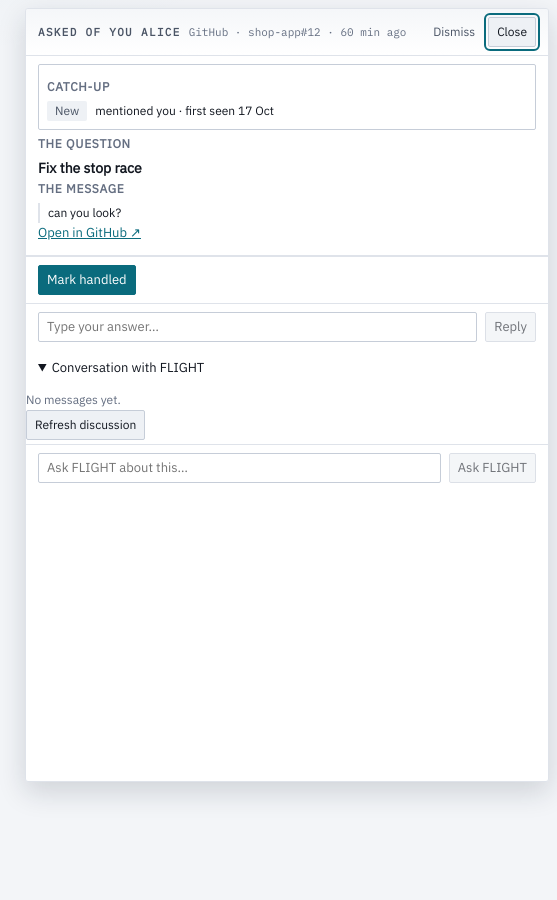
Test: ItemPanel, person variant › a refused Mark handled shows the server's error in the panel
Check: the text "can you look?" is shown, box [38,203,536,223]
Click the button "Mark handled" at (87, 280), box [38,265,136,295]
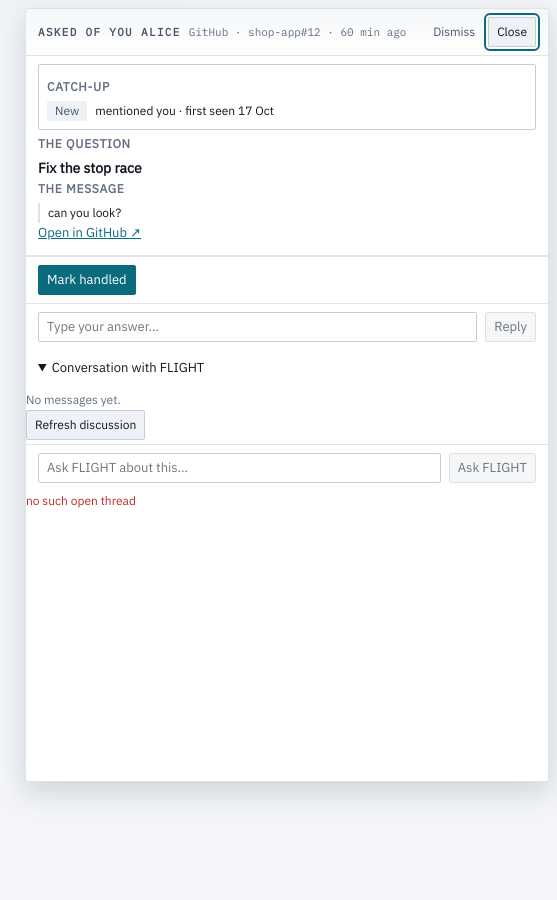
Check: the message reads "no such open thread", box [26,493,136,508]
